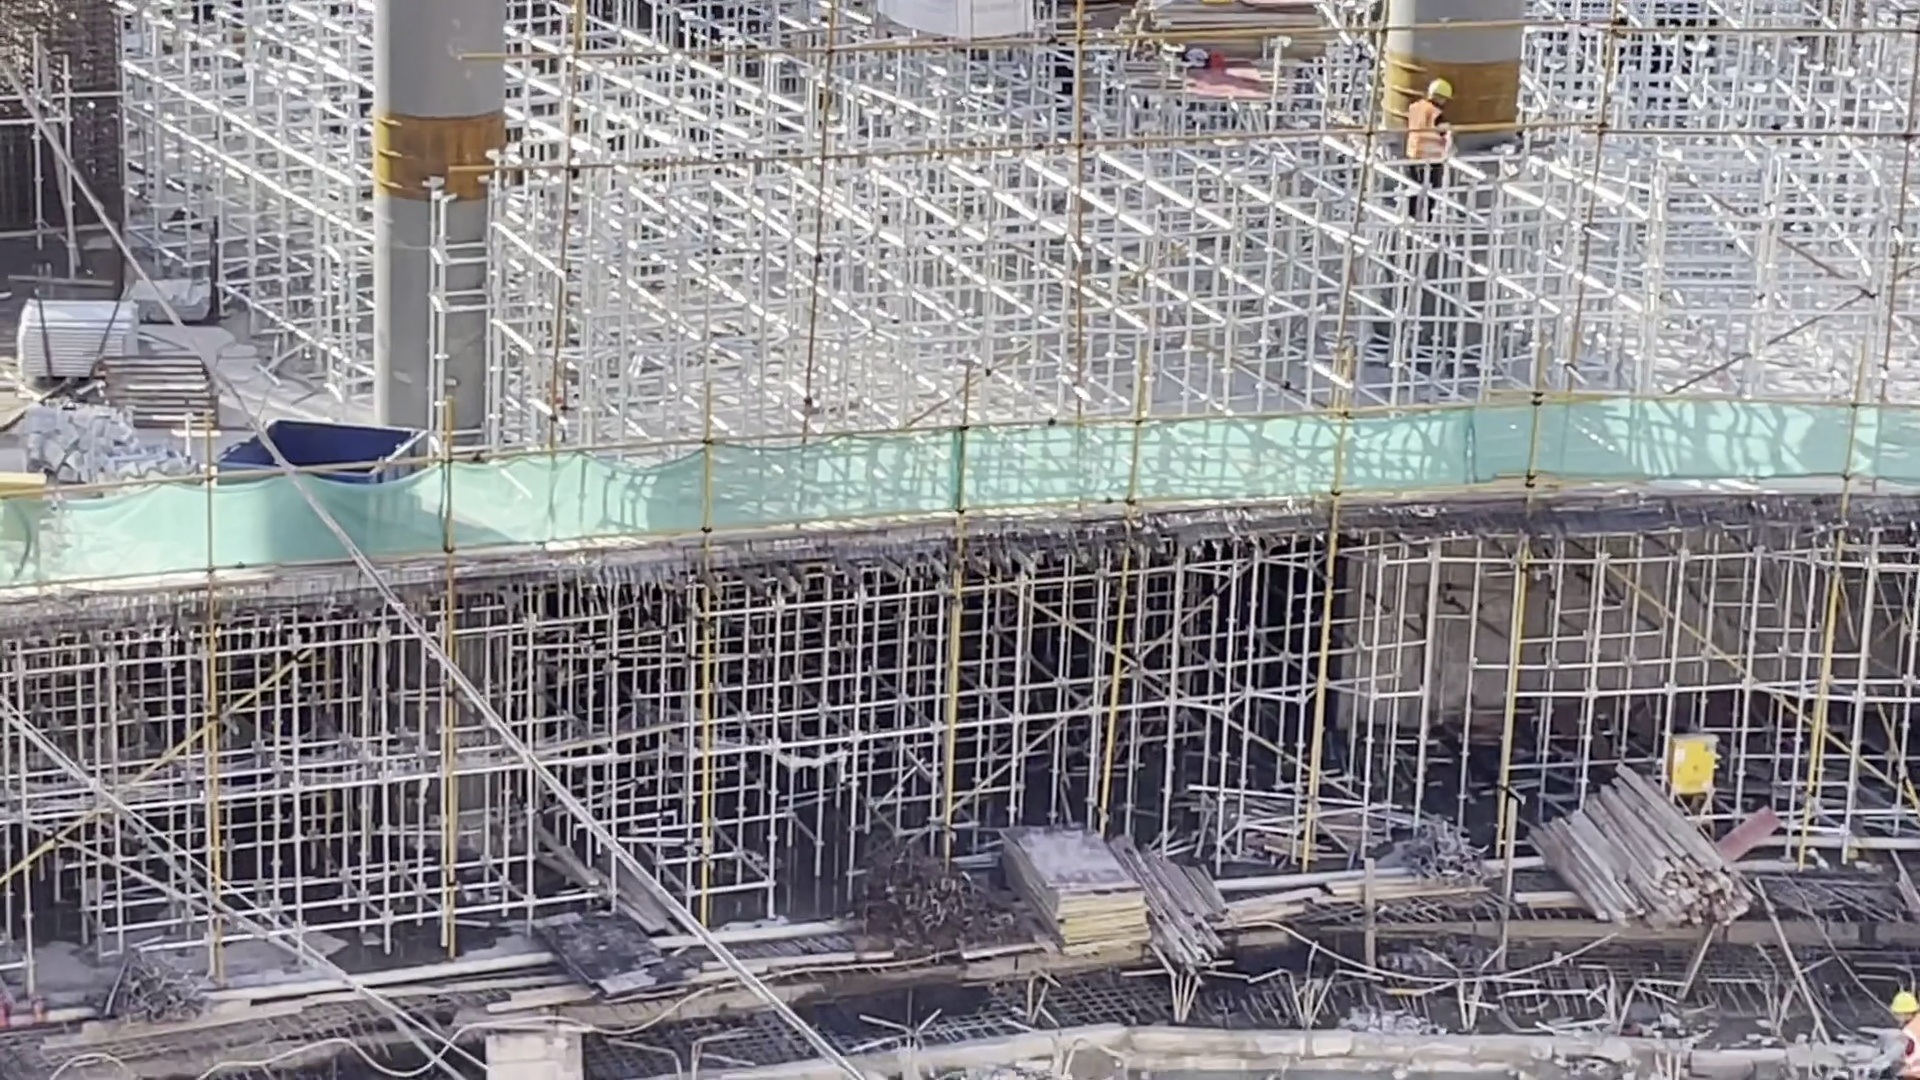board: (1520, 757, 1750, 933), (1004, 823, 1150, 968), (1113, 1, 1338, 66)
ebox: (1662, 725, 1722, 815)
helmet: (1890, 992, 1920, 1015), (1426, 75, 1455, 98)
hopper: (220, 414, 431, 484)
person: (1402, 76, 1456, 187), (1887, 990, 1920, 1080)
vest: (1406, 104, 1451, 160), (1899, 1018, 1920, 1080)
